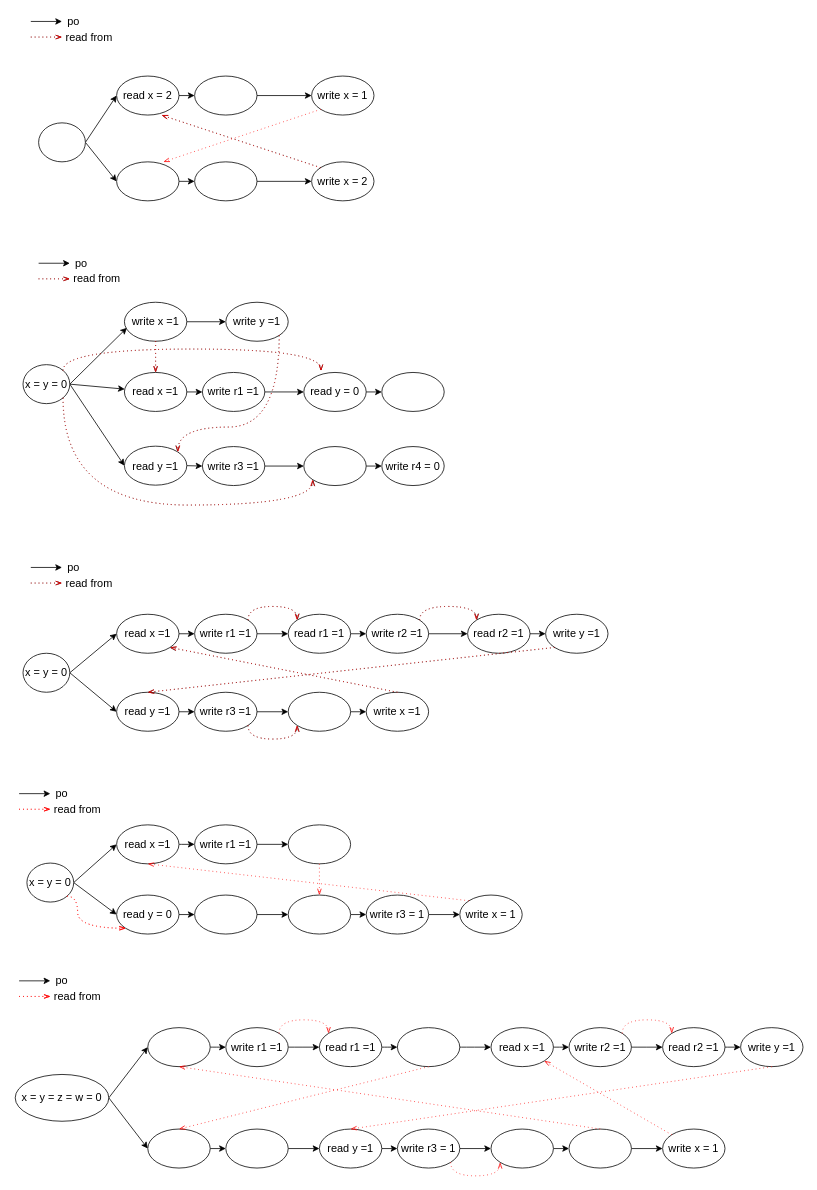
Some shapes in this 817 by 1190 pixel diagram are drawn without their labels. Each missing label, with the centre of its shape:
read r3 = 1: (x=521, y=1148)
read r3 =1: (x=319, y=711)
read w =1: (x=178, y=1148)
read x = 0: (x=334, y=466)
read x = 1: (x=147, y=181)
read z = 1: (x=319, y=914)
read z =1: (x=178, y=1047)
write r1 = 2: (x=225, y=95)
write r2 = 0: (x=412, y=391)
write r2 = 1: (x=225, y=181)
write r2 =0: (x=225, y=914)
write r4 =1: (x=256, y=1148)
write w =1: (x=428, y=1047)
write z = 1: (x=599, y=1148)
write z =1: (x=319, y=844)
x = 0: (x=61, y=142)
